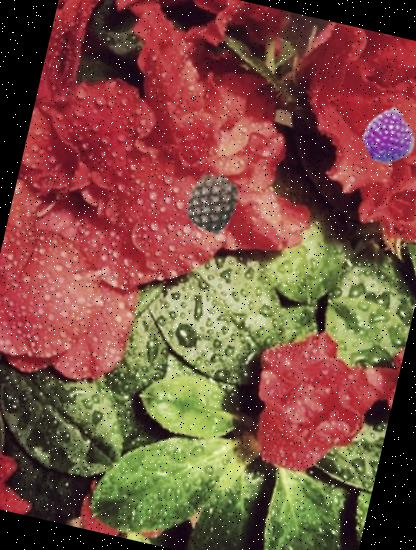Pineapple: (179, 168, 247, 236)
Raspberry: (356, 107, 416, 169)
